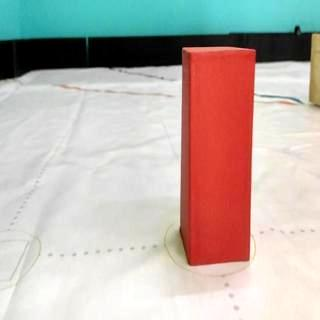redbox: (178, 46, 256, 267)
